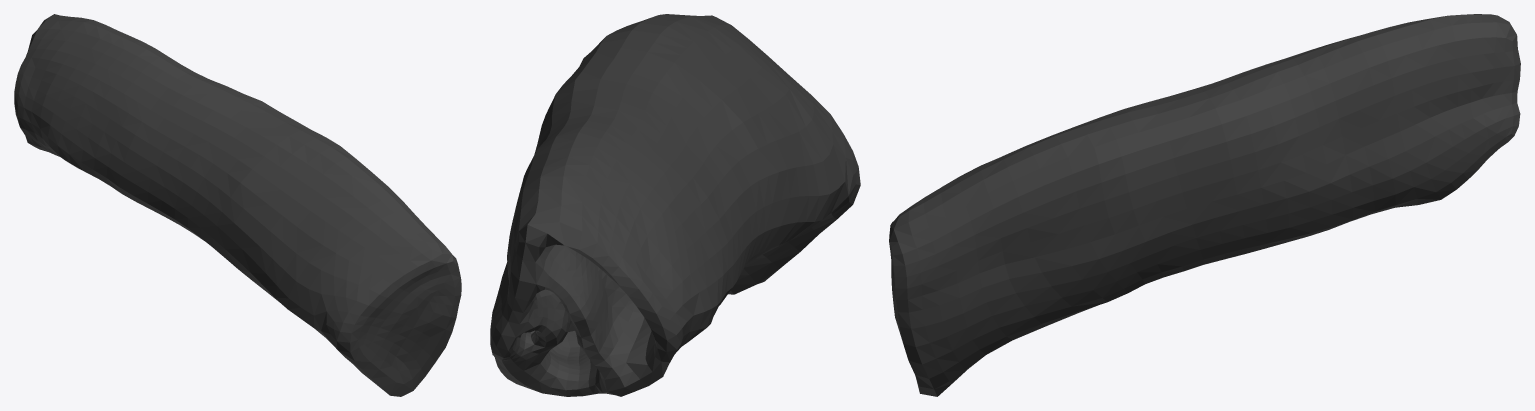
The picture shows the model from 3 angles, left to right: view 1: azimuth 30°, elevation 25°; view 2: azimuth 150°, elevation 25°; view 3: azimuth 270°, elevation 25°; orthographic projection. The views are drawn at different scales.
Visible parts, largest first — view 1: world; view 2: world; view 3: world.
Part boxes in pixels (x1,y1,x2,y2): world: (14,14,461,396); world: (490,14,860,396); world: (889,14,1520,396).
Bounding box in the file's own units: 0.1982 × 0.2061 × 0.3821.
1 material, 1 textured.
